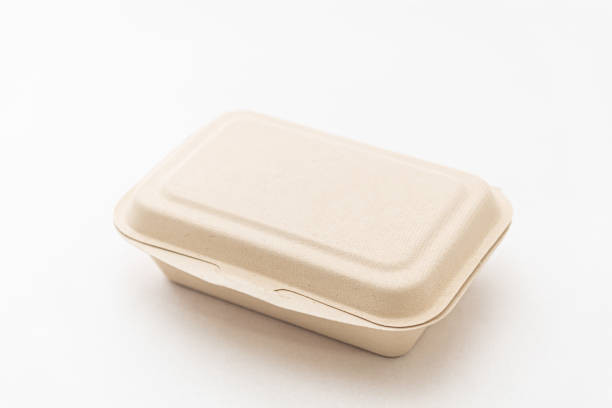styrofoam: (112, 110, 513, 358)
